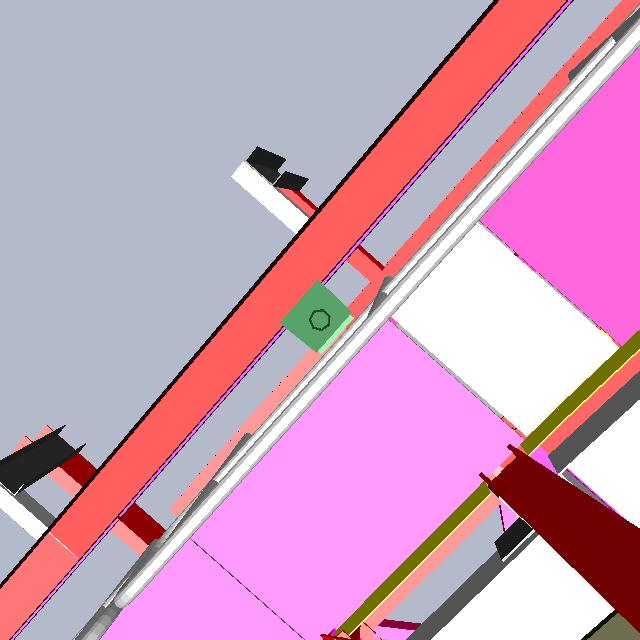Poste: (306, 306, 332, 336)
